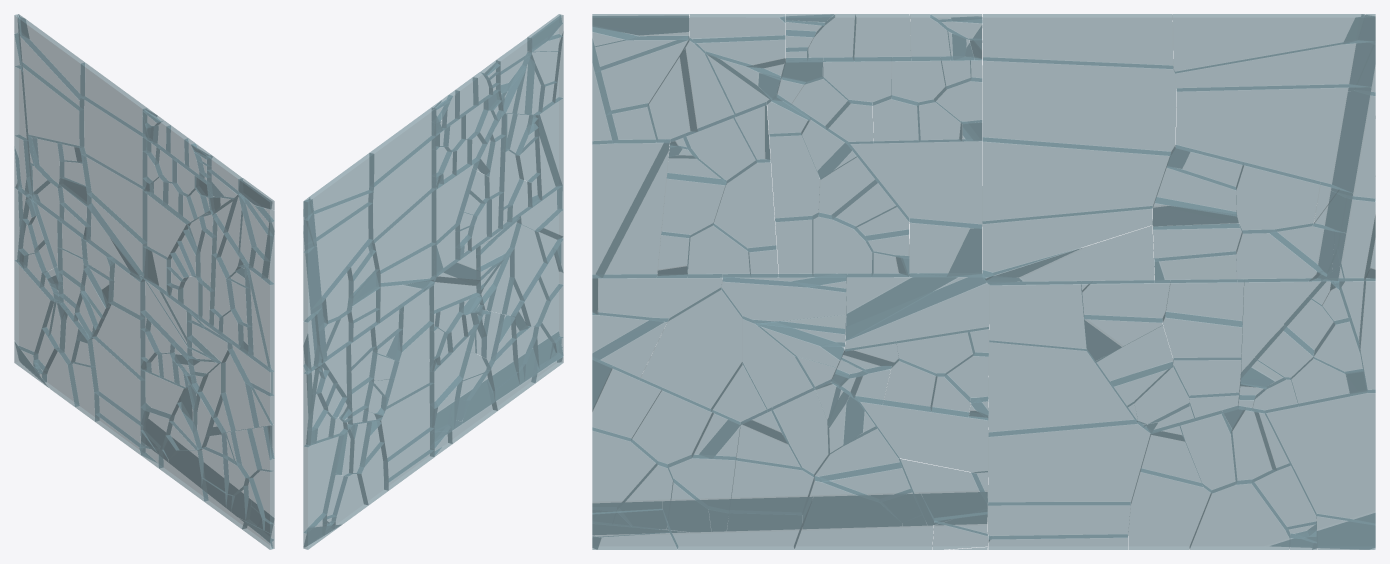
The model's file is brokenWindow2.fbx.
The picture shows the model from 3 angles, left to right: view 1: azimuth 30°, elevation 25°; view 2: azimuth 150°, elevation 25°; view 3: azimuth 270°, elevation 25°; orthographic projection. The views are drawn at different scales.
Visible parts, largest first — view 1: Ikkuna_cell.003_cell.002, Ikkuna_cell.003_cell.004, Ikkuna_cell.003_cell.005, Ikkuna_cell.002_cell.012, Ikkuna_cell.002_cell.004, Ikkuna_cell.002_cell.010, Ikkuna_cell.003_cell.009, Ikkuna_cell.003_cell.006, Ikkuna_cell.005_cell.010, Ikkuna_cell.004_cell.014_cell.009, Ikkuna_cell.003_cell.008, Ikkuna_cell.005_cell.003 (+110 smaller); view 2: Ikkuna_cell.003_cell.002, Ikkuna_cell.003_cell.004, Ikkuna_cell.003_cell.005, Ikkuna_cell.002_cell.012, Ikkuna_cell.002_cell.004, Ikkuna_cell.002_cell.010, Ikkuna_cell.003_cell.009, Ikkuna_cell.005_cell.010, Ikkuna_cell.003_cell.006, Ikkuna_cell.004_cell.014_cell.009, Ikkuna_cell.004_cell.003, Ikkuna_cell.005_cell.003 (+111 smaller); view 3: Ikkuna_cell.003_cell.002, Ikkuna_cell.003_cell.004, Ikkuna_cell.003_cell.005, Ikkuna_cell.002_cell.012, Ikkuna_cell.002_cell.010, Ikkuna_cell.002_cell.004, Ikkuna_cell.003_cell.009, Ikkuna_cell.005_cell.010, Ikkuna_cell.003_cell.006, Ikkuna_cell.004_cell.014_cell.009, Ikkuna_cell_cell.006, Ikkuna_cell.003_cell (+128 smaller).
Part boxes in pixels (x1,y1,x2,y2): Ikkuna_cell.003_cell.002: (79, 96, 146, 188); Ikkuna_cell.003_cell.004: (21, 63, 83, 147); Ikkuna_cell.003_cell.005: (81, 154, 146, 243); Ikkuna_cell.002_cell.012: (87, 336, 145, 425); Ikkuna_cell.002_cell.004: (14, 260, 53, 354); Ikkuna_cell.002_cell.010: (92, 301, 144, 380); Ikkuna_cell.003_cell.009: (80, 62, 146, 136); Ikkuna_cell.003_cell.006: (19, 17, 84, 100); Ikkuna_cell.005_cell.010: (142, 191, 190, 259); Ikkuna_cell.004_cell.014_cell.009: (221, 349, 258, 431); Ikkuna_cell.003_cell.008: (87, 192, 146, 275); Ikkuna_cell.005_cell.003: (246, 265, 274, 371); Ikkuna_cell.003_cell.002: (368, 136, 436, 242); Ikkuna_cell.003_cell.004: (305, 202, 373, 309); Ikkuna_cell.003_cell.005: (372, 189, 436, 273); Ikkuna_cell.002_cell.012: (377, 383, 434, 461); Ikkuna_cell.002_cell.004: (303, 434, 343, 533); Ikkuna_cell.002_cell.010: (385, 321, 434, 409); Ikkuna_cell.003_cell.009: (369, 107, 436, 186); Ikkuna_cell.005_cell.010: (432, 158, 479, 245); Ikkuna_cell.003_cell.006: (309, 153, 374, 214); Ikkuna_cell.004_cell.014_cell.009: (510, 223, 547, 300); Ikkuna_cell.004_cell.003: (430, 328, 477, 408); Ikkuna_cell.005_cell.003: (534, 97, 563, 185); Ikkuna_cell.003_cell.002: (982, 57, 1176, 155); Ikkuna_cell.003_cell.004: (1176, 84, 1371, 192); Ikkuna_cell.003_cell.005: (982, 137, 1170, 223); Ikkuna_cell.002_cell.012: (988, 420, 1150, 505); Ikkuna_cell.002_cell.010: (988, 341, 1137, 436); Ikkuna_cell.002_cell.004: (1265, 390, 1375, 524); Ikkuna_cell.003_cell.009: (983, 14, 1173, 68); Ikkuna_cell.005_cell.010: (847, 139, 982, 228); Ikkuna_cell.003_cell.006: (1172, 14, 1364, 73); Ikkuna_cell.004_cell.014_cell.009: (640, 287, 742, 411); Ikkuna_cell_cell.006: (794, 493, 933, 549); Ikkuna_cell.003_cell: (1175, 40, 1375, 91).
Size of the model in its own units: 4.34 by 300 by 400.
